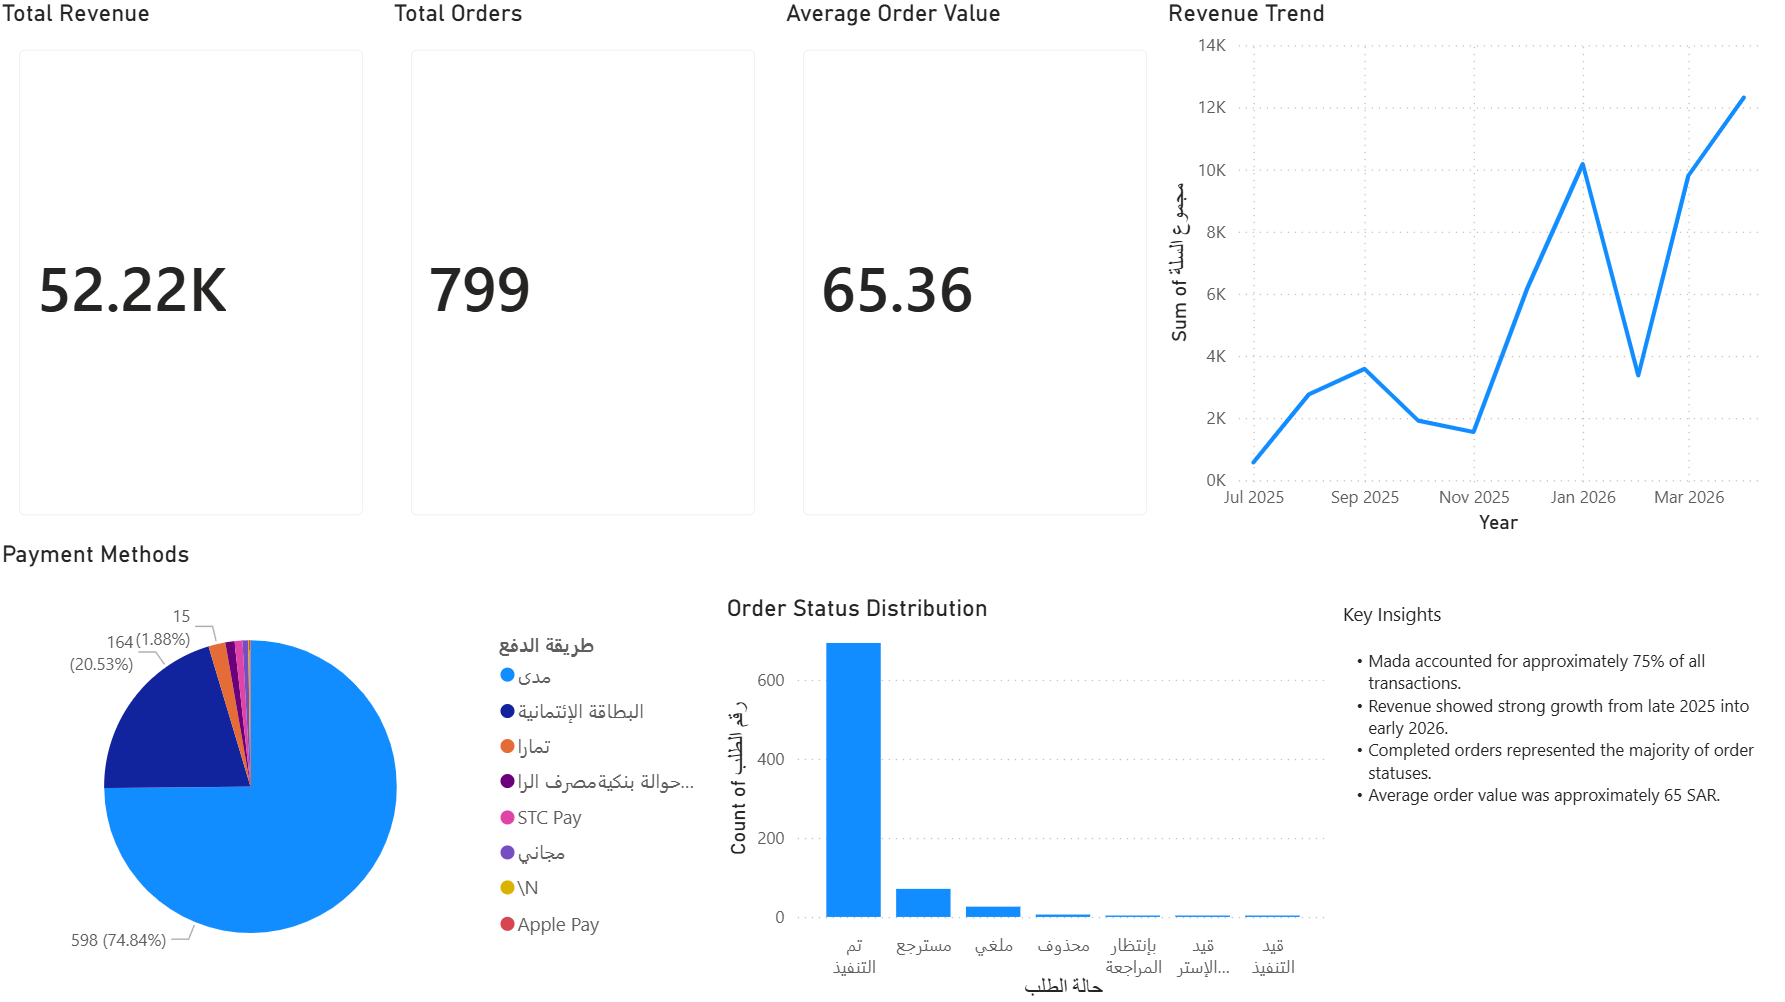

Layout of this report page (visuals, bound fields, positions):
{"tool":"powerbi","page":{"name":"Page 1","canvas":[1280,720],"ordinal":0},"visuals":[{"type":"cardVisual","title":"Total Orders","fields":{"Data":["CountNonNull(sales_data_github_safe_v2.رقم الطلب)"]},"box":[280,0,280,386.7],"z":0},{"type":"cardVisual","title":"Total Revenue","fields":{"Data":["Sum(sales_data_github_safe_v2.مجموع السلة)"]},"box":[0,0,280,386.7],"z":1000},{"type":"cardVisual","title":"Average Order Value","fields":{"Data":["Avg(sales_data_github_safe_v2.مجموع السلة)"]},"box":[560,0,280,386.7],"z":2000},{"type":"lineChart","title":"Revenue Trend","fields":{"Y":["Sum(sales_data_github_safe_v2.مجموع السلة)"],"Category":["sales_data_github_safe_v2.تاريخ الطلب.Variation.Date Hierarchy.Year","sales_data_github_safe_v2.تاريخ الطلب.Variation.Date Hierarchy.Quarter","sales_data_github_safe_v2.تاريخ الطلب.Variation.Date Hierarchy.Month"]},"box":[832.7,0,447.3,386.7],"z":3000},{"type":"pieChart","title":"Payment Methods","fields":{"Category":["sales_data_github_safe_v2.طريقة الدفع"],"Y":["CountNonNull(sales_data_github_safe_v2.رقم الطلب)"]},"box":[0,386.7,518,333.3],"z":3001},{"type":"clusteredColumnChart","title":"Order Status Distribution","fields":{"Category":["sales_data_github_safe_v2.حالة الطلب"],"Y":["CountNonNull(sales_data_github_safe_v2.رقم الطلب)"]},"box":[518,425.3,440,294.7],"z":3002},{"type":"textbox","box":[958,425,322,295],"z":3003}]}

Visuals, with their boxes in screenshot pixels (x1, y1, x2, y2), scaled from the page's 1280x720 canvas onto the 1785x1002 screenshot:
"Total Orders" cardVisual: {"x1": 390, "y1": 0, "x2": 781, "y2": 538}
"Total Revenue" cardVisual: {"x1": 0, "y1": 0, "x2": 390, "y2": 538}
"Average Order Value" cardVisual: {"x1": 781, "y1": 0, "x2": 1171, "y2": 538}
"Revenue Trend" lineChart: {"x1": 1161, "y1": 0, "x2": 1784, "y2": 538}
"Payment Methods" pieChart: {"x1": 0, "y1": 538, "x2": 722, "y2": 1001}
"Order Status Distribution" clusteredColumnChart: {"x1": 722, "y1": 592, "x2": 1336, "y2": 1001}
textbox: {"x1": 1336, "y1": 591, "x2": 1784, "y2": 1001}
